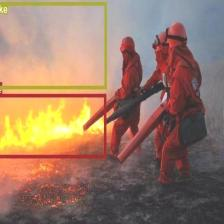fire: (0, 93, 106, 157)
smoke: (0, 1, 106, 88)
